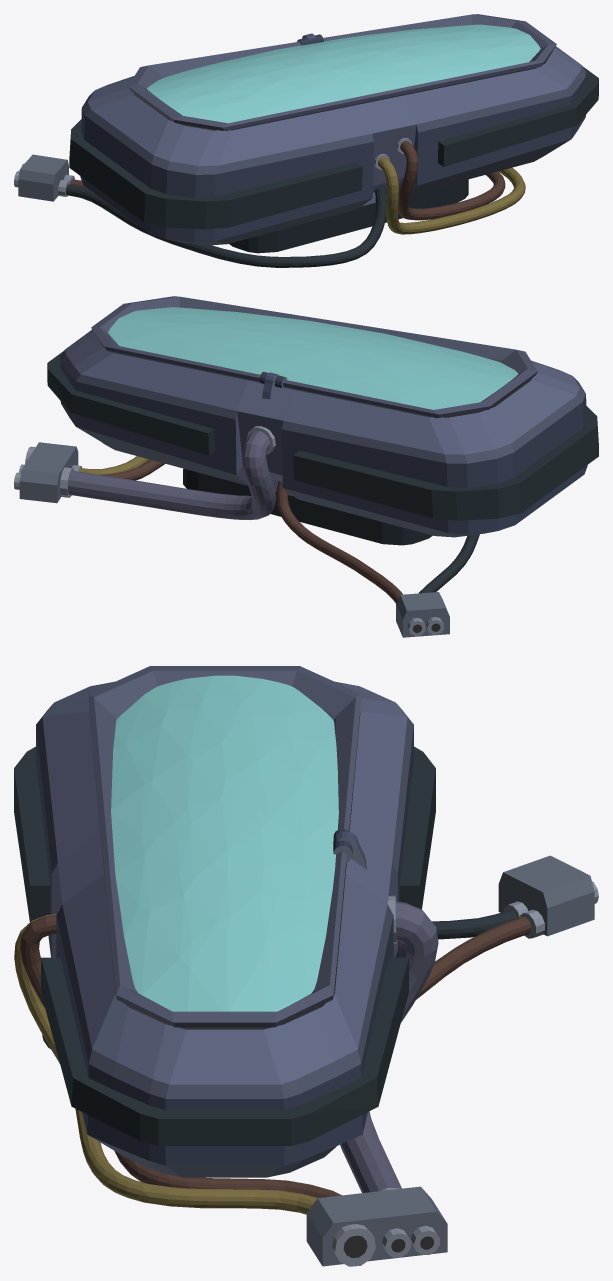
Rendered from stasis-capsule.fbx.
3 renders of one model, top to bottom at view 1: azimuth 30°, elevation 25°; view 2: azimuth 150°, elevation 25°; view 3: azimuth 270°, elevation 25°, orthographic. The views are drawn at different scales.
Parts seen in each view (by area): view 1: Pat, capac-glass, wires, capac, wire-station; view 2: Pat, capac-glass, wires, capac, wire-station; view 3: Pat, capac-glass, wires, capac, wire-station.
Part boxes in pixels (box(x1,y1,x2,y2)): Pat: box(69, 33, 598, 253); capac-glass: box(147, 24, 540, 123); wires: box(66, 141, 525, 267); capac: box(128, 14, 556, 130); wire-station: box(14, 154, 74, 201); Pat: box(47, 330, 598, 545); capac-glass: box(108, 307, 518, 409); wires: box(68, 431, 479, 603); capac: box(91, 296, 537, 418); wire-station: box(14, 442, 449, 637); Pat: box(14, 681, 435, 1177); capac-glass: box(111, 675, 338, 1011); wires: box(14, 901, 531, 1214); capac: box(88, 666, 361, 1027); wire-station: box(306, 855, 598, 1266).
Size of the model in its own units: 9.34 by 6.04 by 3.02.
